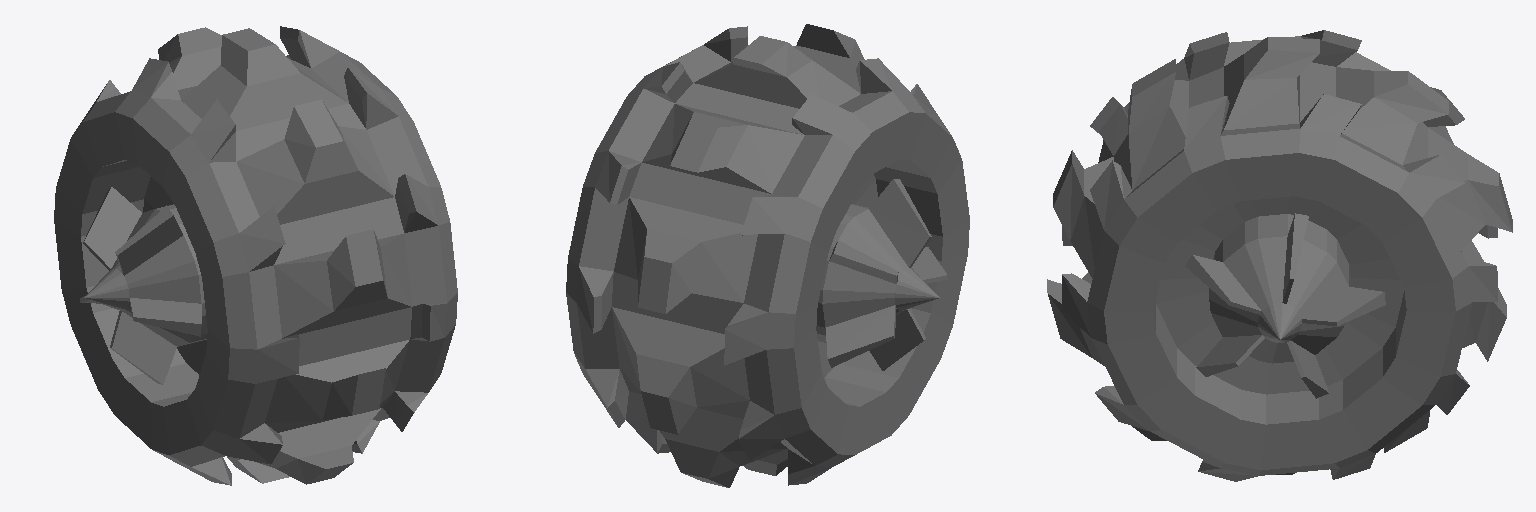
File: TrasherBladeModel.obj
The picture shows the model from 3 angles: view 1: azimuth 30°, elevation 25°; view 2: azimuth 150°, elevation 25°; view 3: azimuth 270°, elevation 25°; orthographic projection.
Visible parts, largest first — view 1: pCylinder62; view 2: pCylinder62; view 3: pCylinder62.
Part boxes in pixels (x1,y1,x2,y2): pCylinder62: (54, 26, 457, 485); pCylinder62: (566, 24, 969, 487); pCylinder62: (1047, 30, 1512, 481).
Bounding box in the file's own units: 2.35 × 2.78 × 2.75.